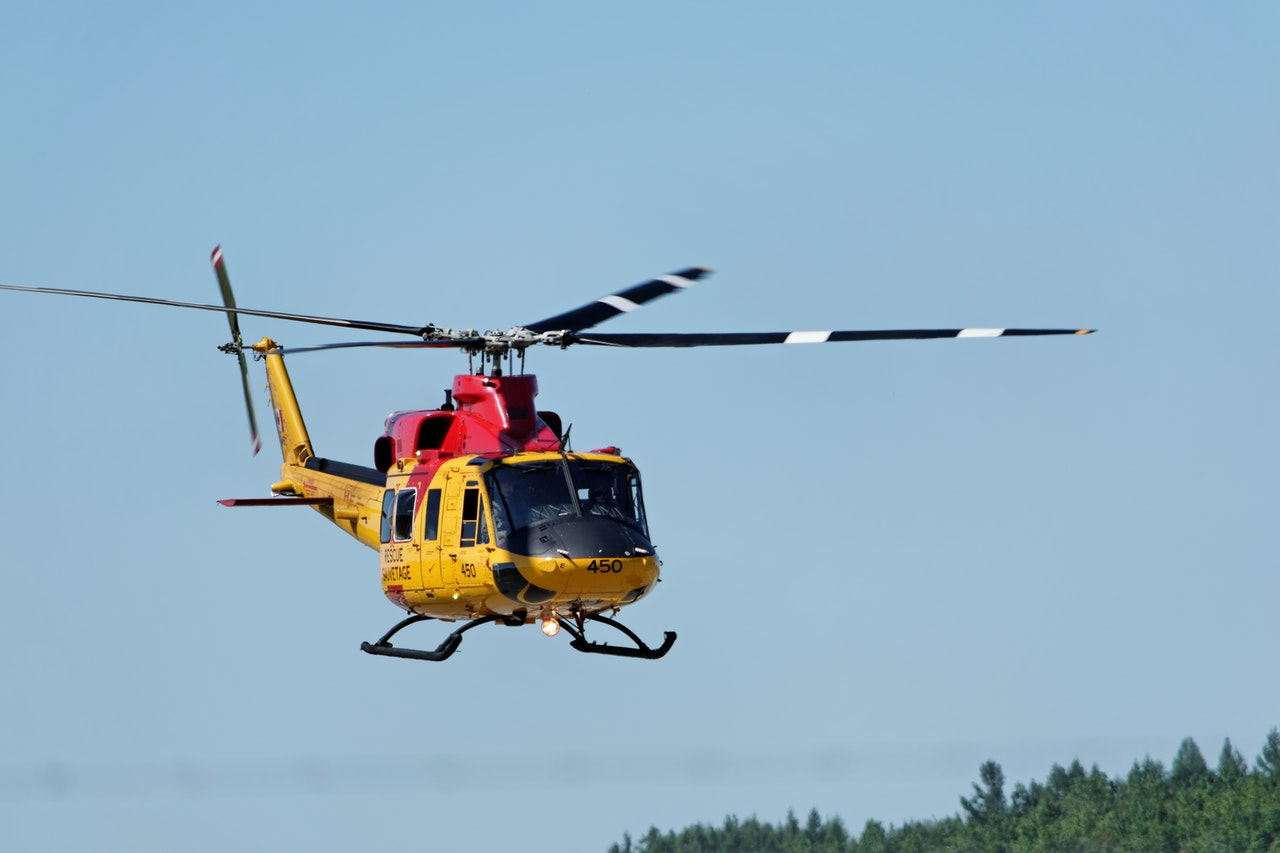heli: (1, 240, 1098, 660)
